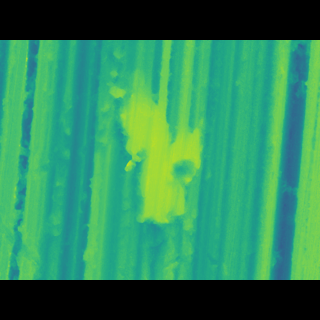Loch: (88, 79, 210, 216)
